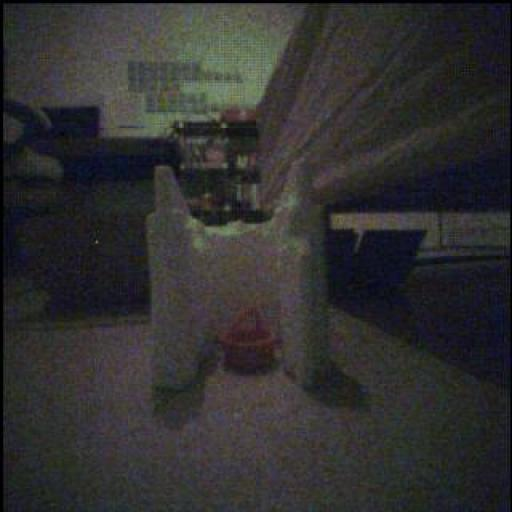basket: (220, 308, 276, 374)
